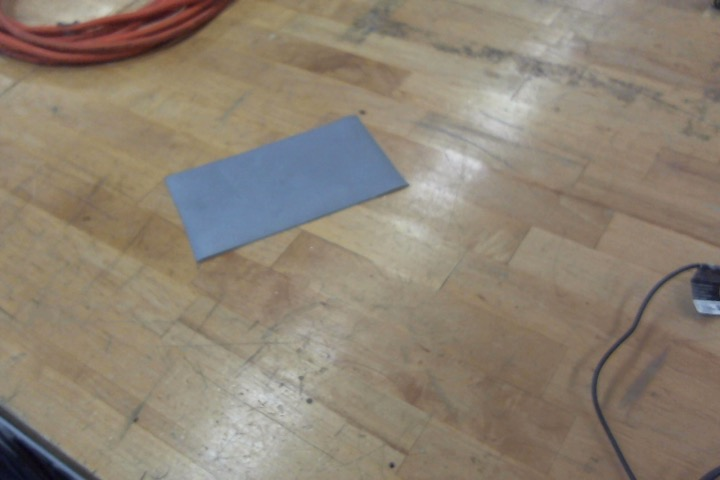Tape: (163, 115, 412, 263)
